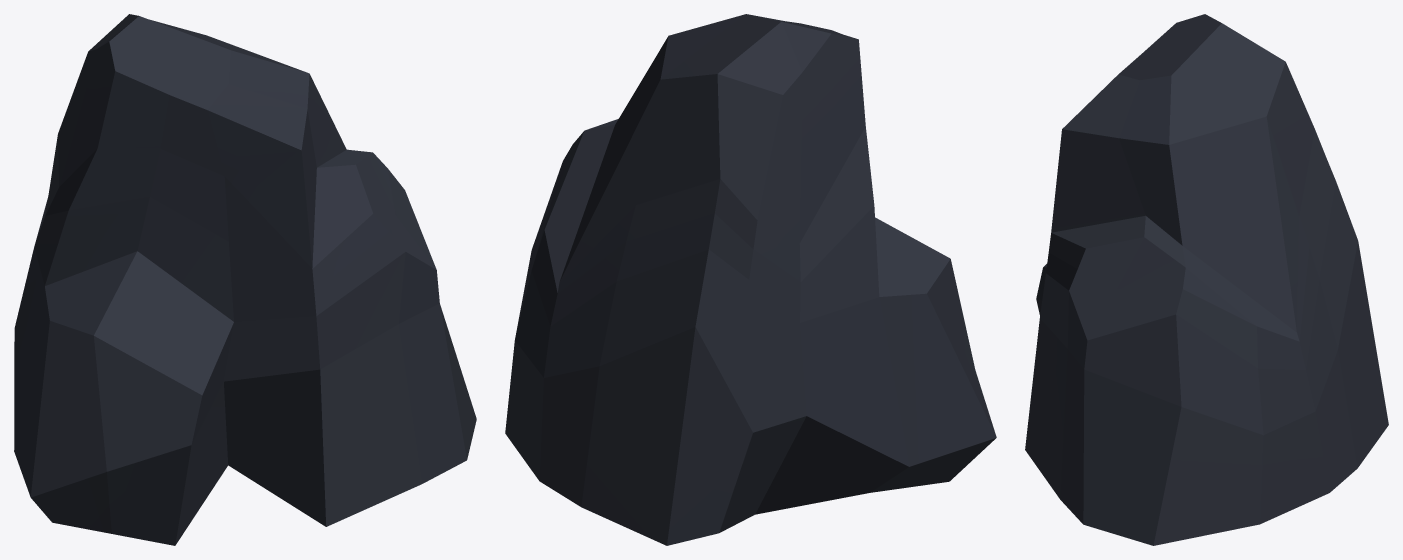
File: SM_Rock6.fbx
3 views of the same model, side by side, from view 1: azimuth 30°, elevation 25°; view 2: azimuth 150°, elevation 25°; view 3: azimuth 270°, elevation 25° (orthographic). The views are drawn at different scales.
Visible parts, largest first — view 1: SM_Rock6; view 2: SM_Rock6; view 3: SM_Rock6.
Part boxes in pixels (<box>): SM_Rock6: <box>14,14,476,545</box>; SM_Rock6: <box>505,14,996,545</box>; SM_Rock6: <box>1025,14,1388,545</box>.
Bounding box in the file's own units: 194 × 181 × 152.
